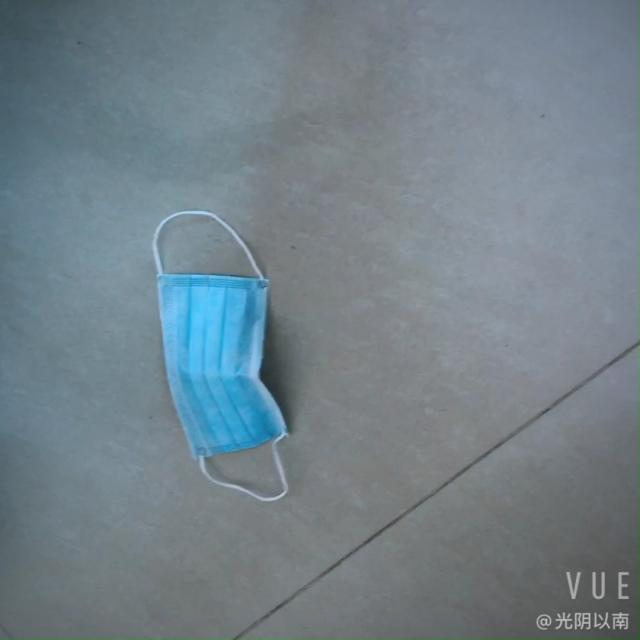face mask: (151, 208, 292, 501)
